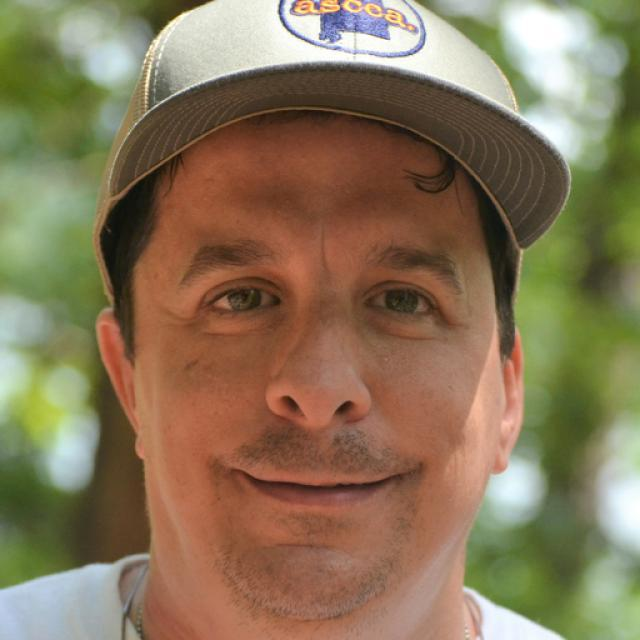content: (130, 112, 501, 628)
